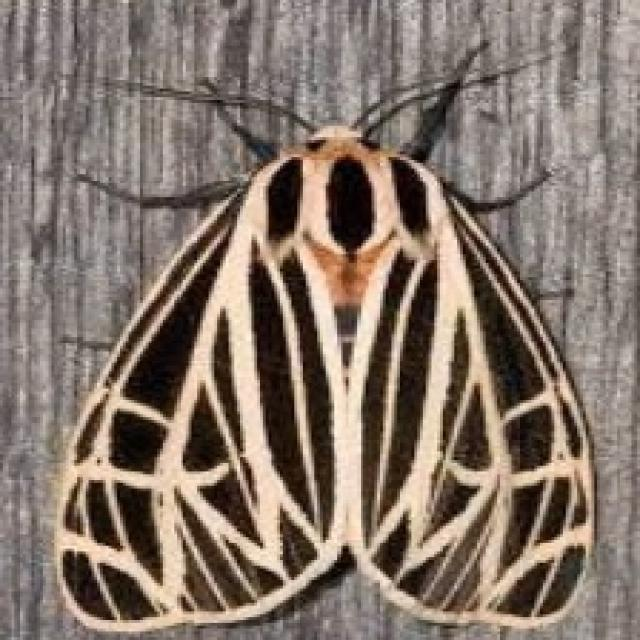butterfly: (52, 37, 597, 634)
